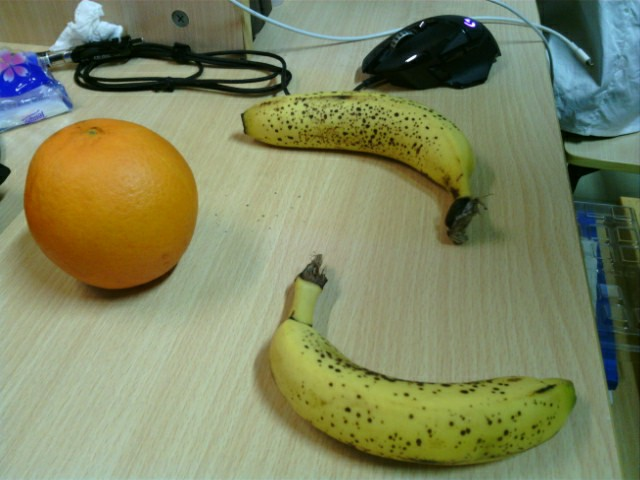normal_banana: (268, 253, 580, 463), (239, 91, 485, 247)
normal_orange: (24, 118, 199, 289)
